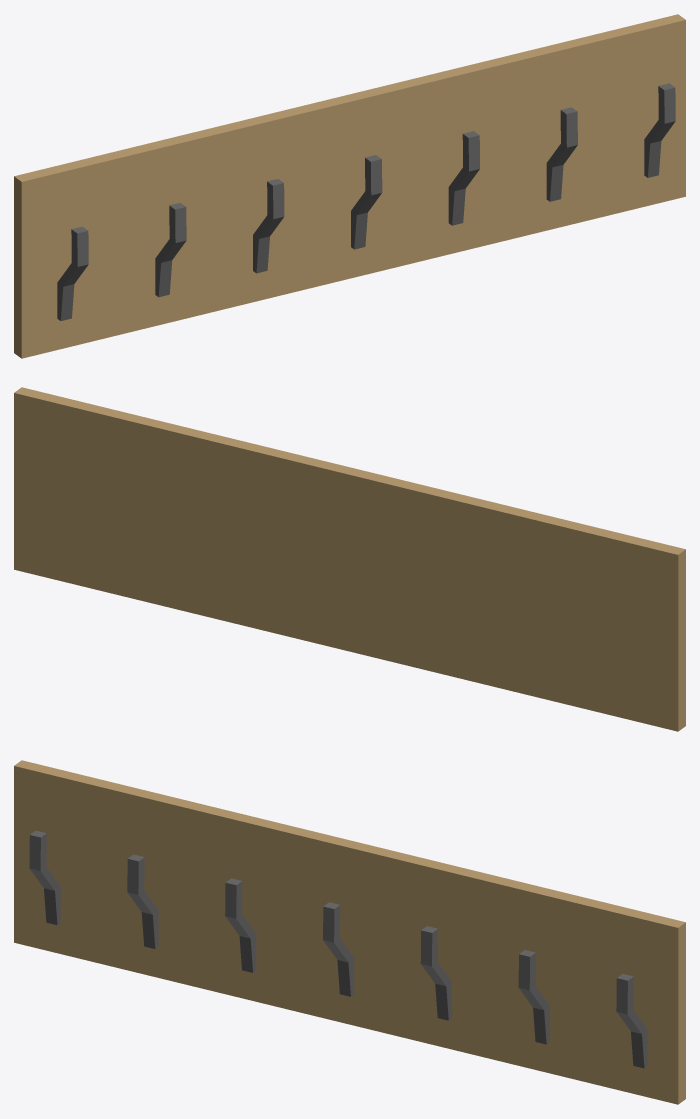
Rendered from vesiak_1.fbx.
3 views of the same model, one above another, from view 1: azimuth 30°, elevation 25°; view 2: azimuth 150°, elevation 25°; view 3: azimuth 330°, elevation 25° (orthographic).
Visible parts, largest first — view 1: vesiak; view 2: vesiak; view 3: vesiak.
Part boxes in pixels (x1=…): vesiak: x1=14, y1=14, x2=685, y2=358; vesiak: x1=14, y1=387, x2=685, y2=731; vesiak: x1=14, y1=760, x2=685, y2=1104.
Size of the model in its own units: 135 by 34.32 by 9.86.
